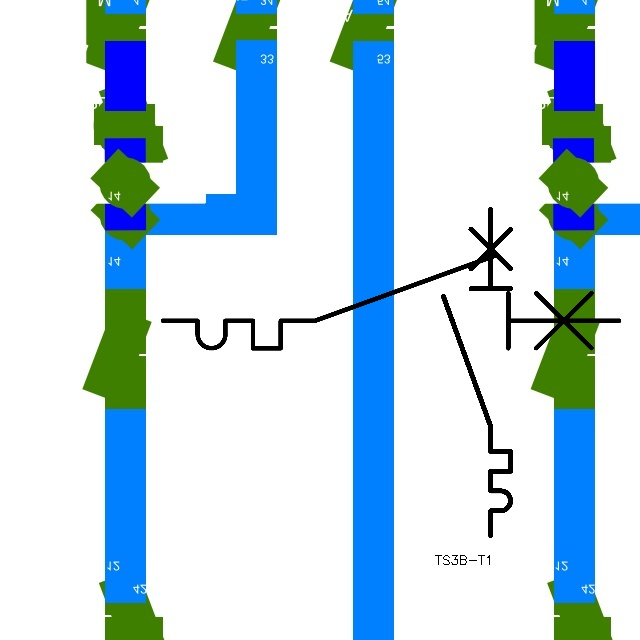interruptor_termomagnetico: (151, 243, 631, 360), (435, 201, 519, 544)
